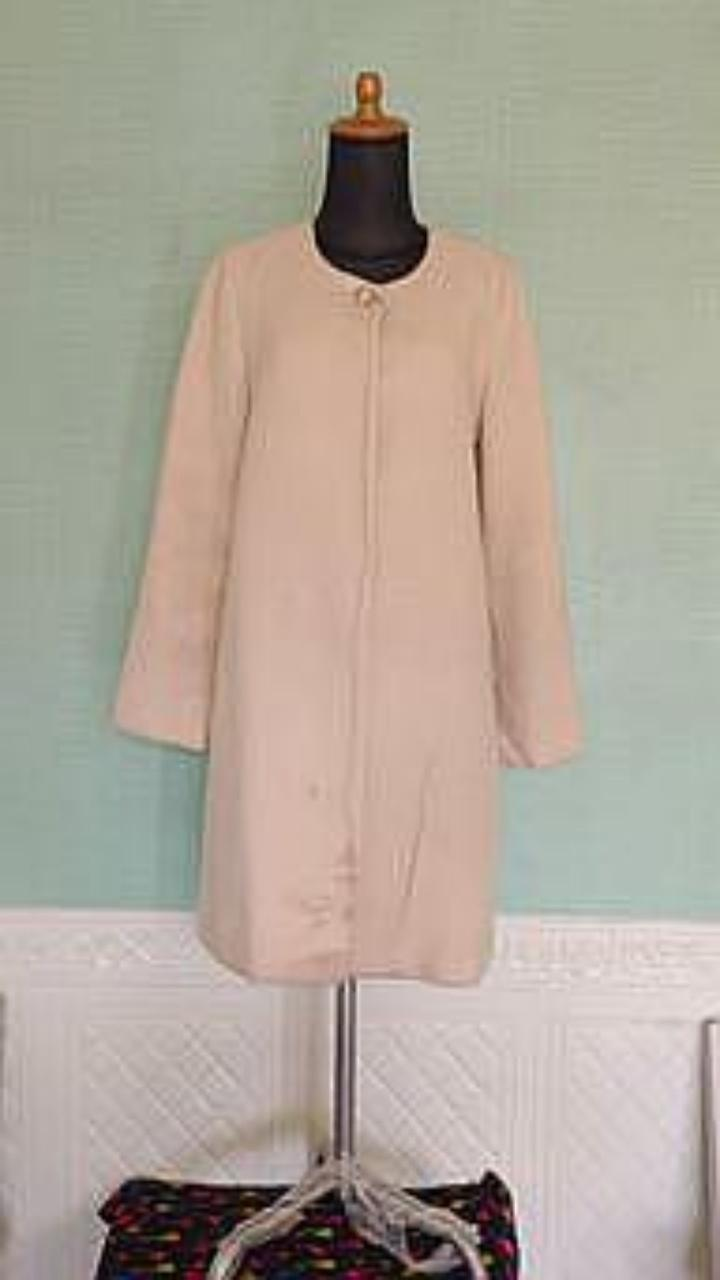Coat: (113, 222, 581, 982)
